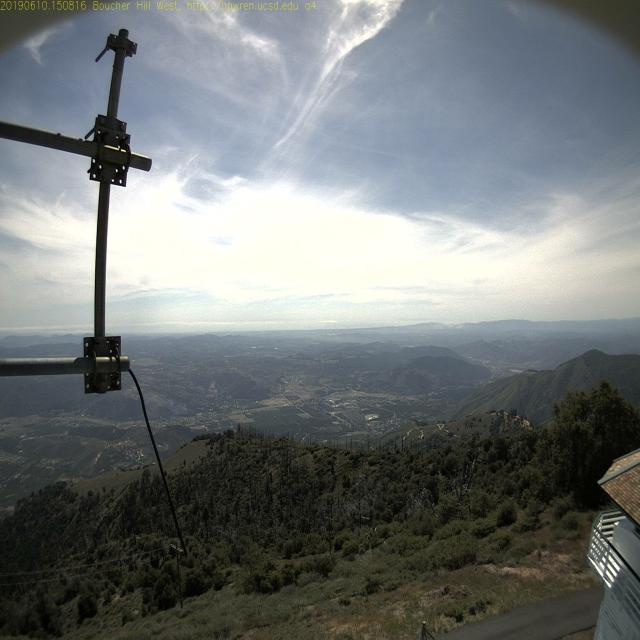smoke: (176, 398, 193, 420)
